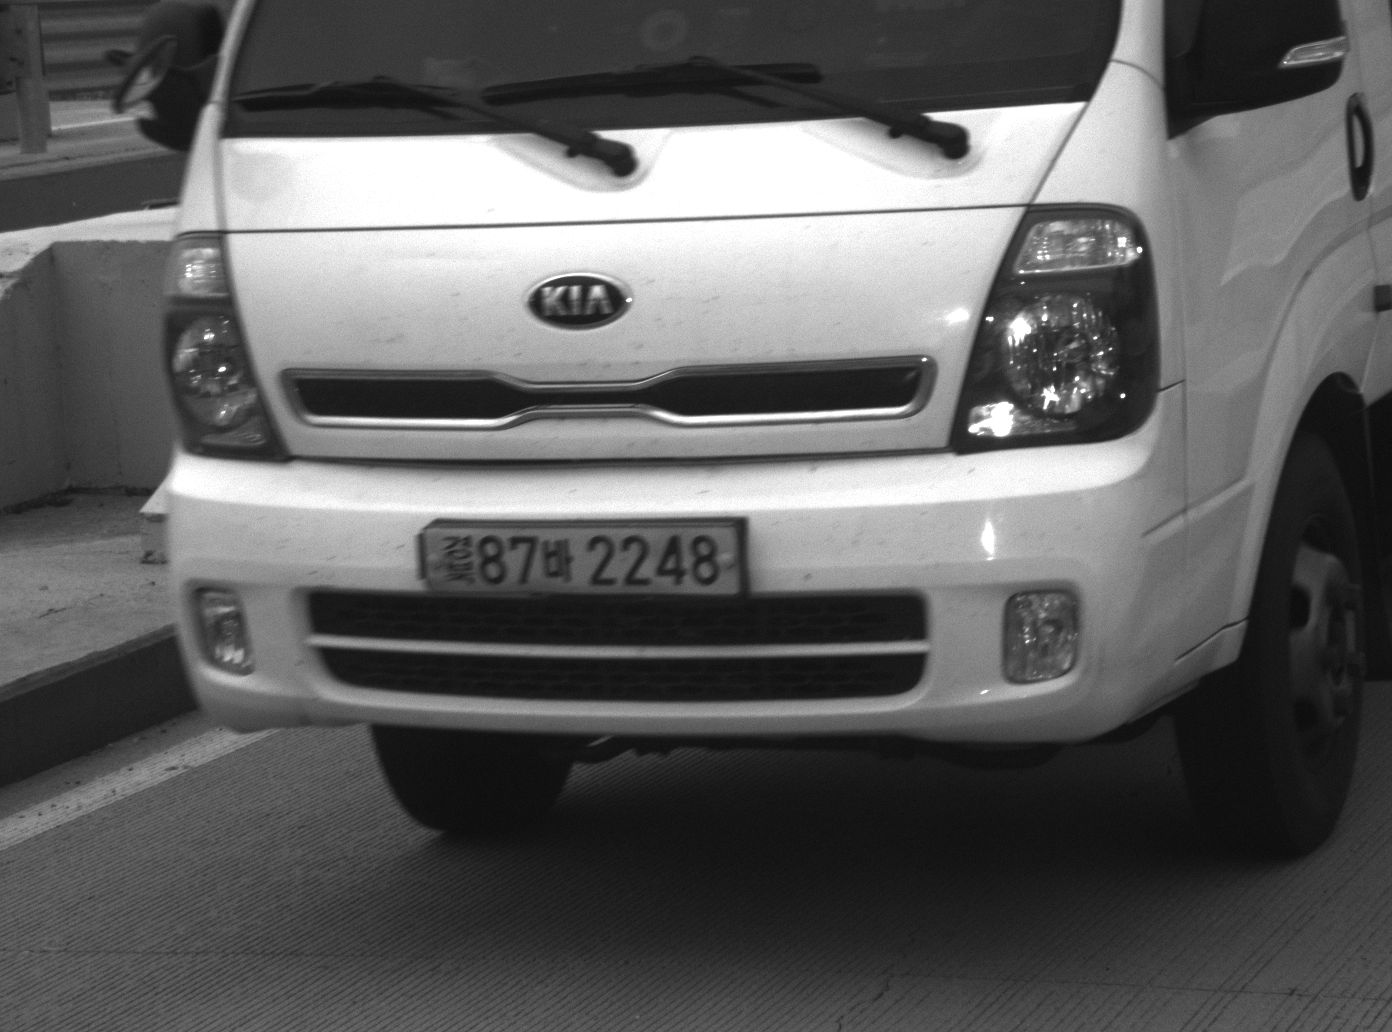car: (169, 1, 1392, 862)
plate: (416, 519, 751, 599)
